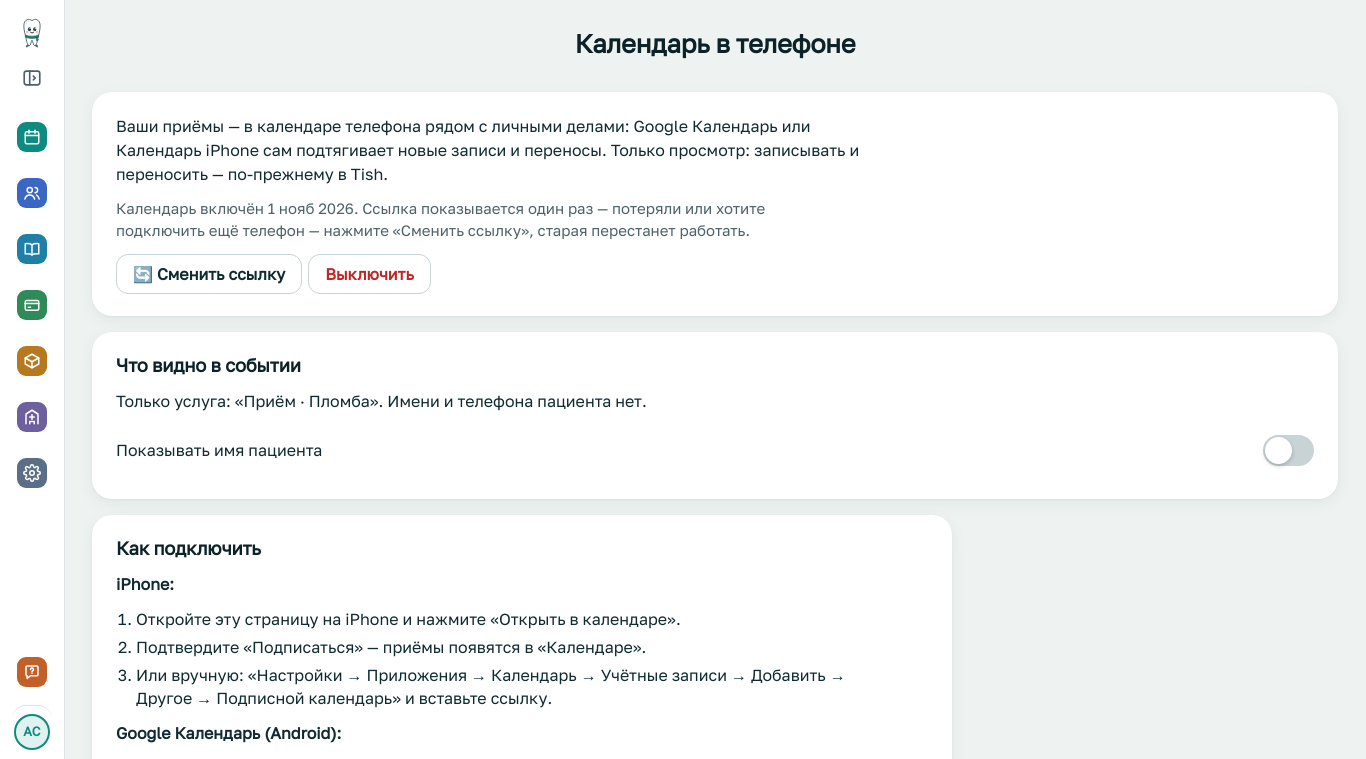
имя пациента — только после предупреждения; «Не надо» ничего не меняет
Click the checkbox labelled "Показывать имя пациента": (1288, 450) [1263,435,1314,466]
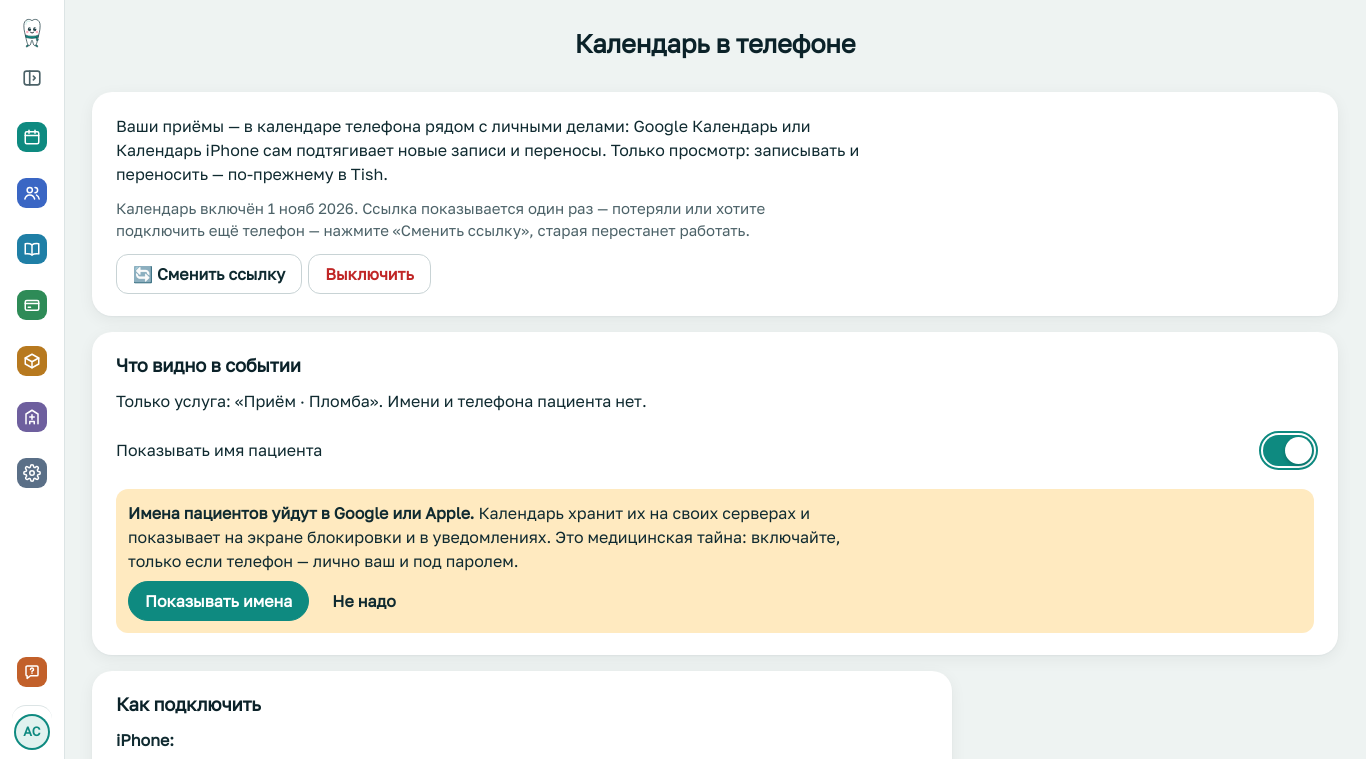
Expected: the dialog named "Показывать имена пациентов?" shows "уйдут в Google или Apple", [128,502,474,522]
Click the button "Не надо": (364, 600) [315,580,413,620]
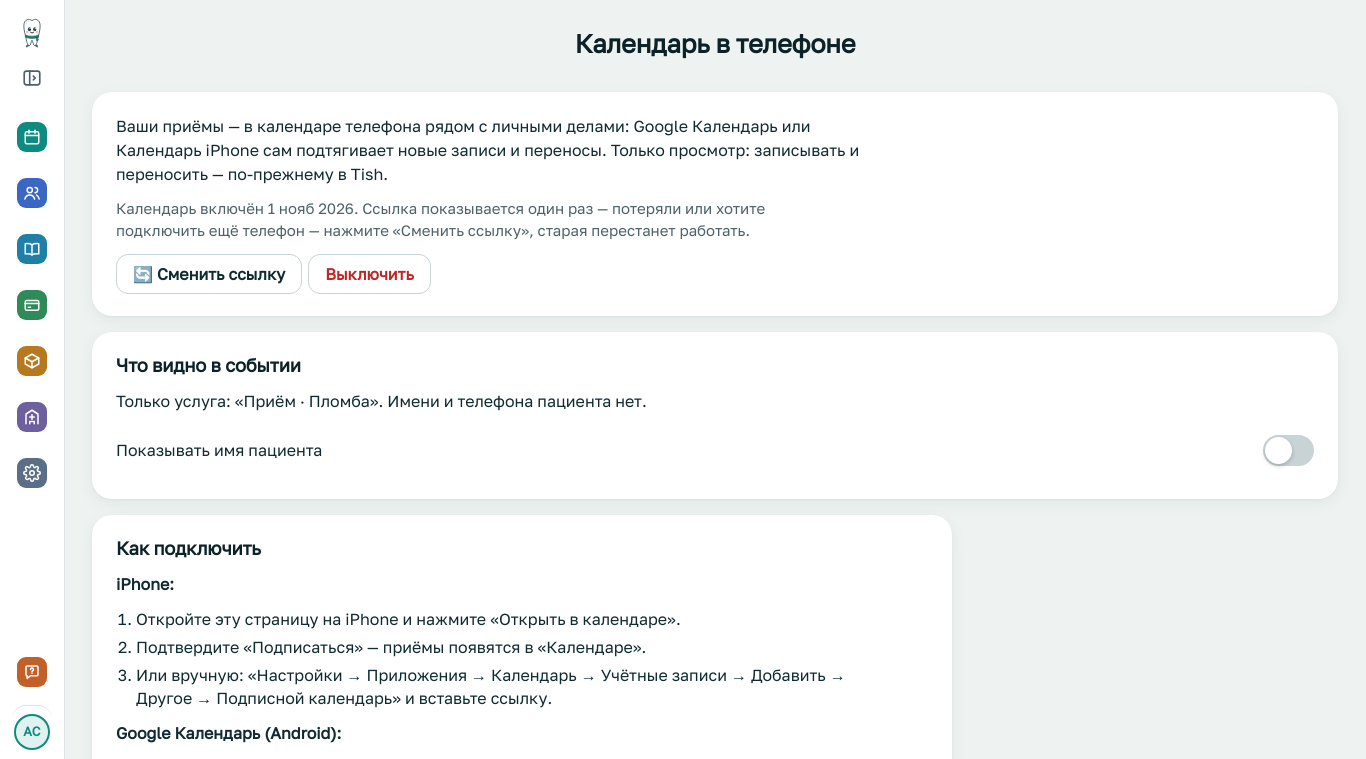
Expected: the checkbox labelled "Показывать имя пациента" is not checked
Click the checkbox labelled "Показывать имя пациента": (1288, 450) [1263,435,1314,466]
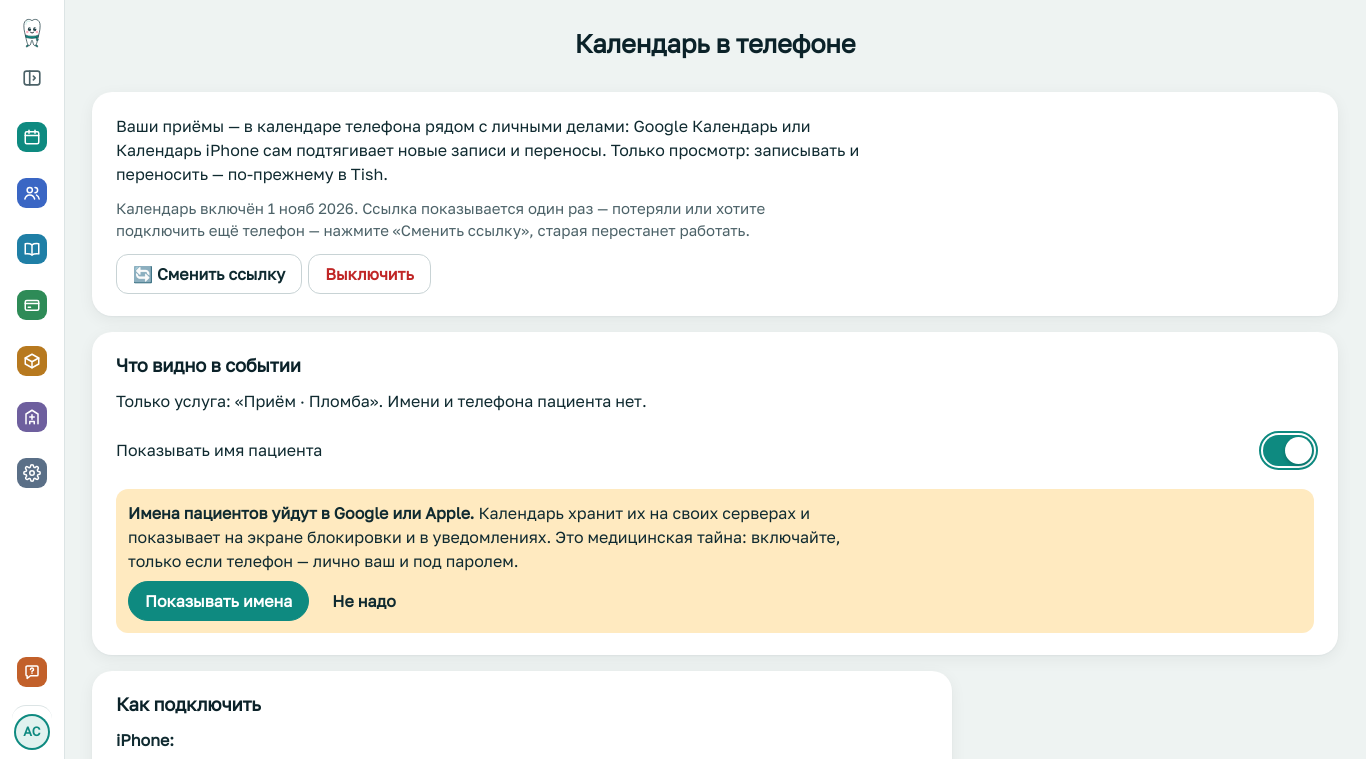
Click the button "Показывать имена": (219, 600) [128,580,309,620]
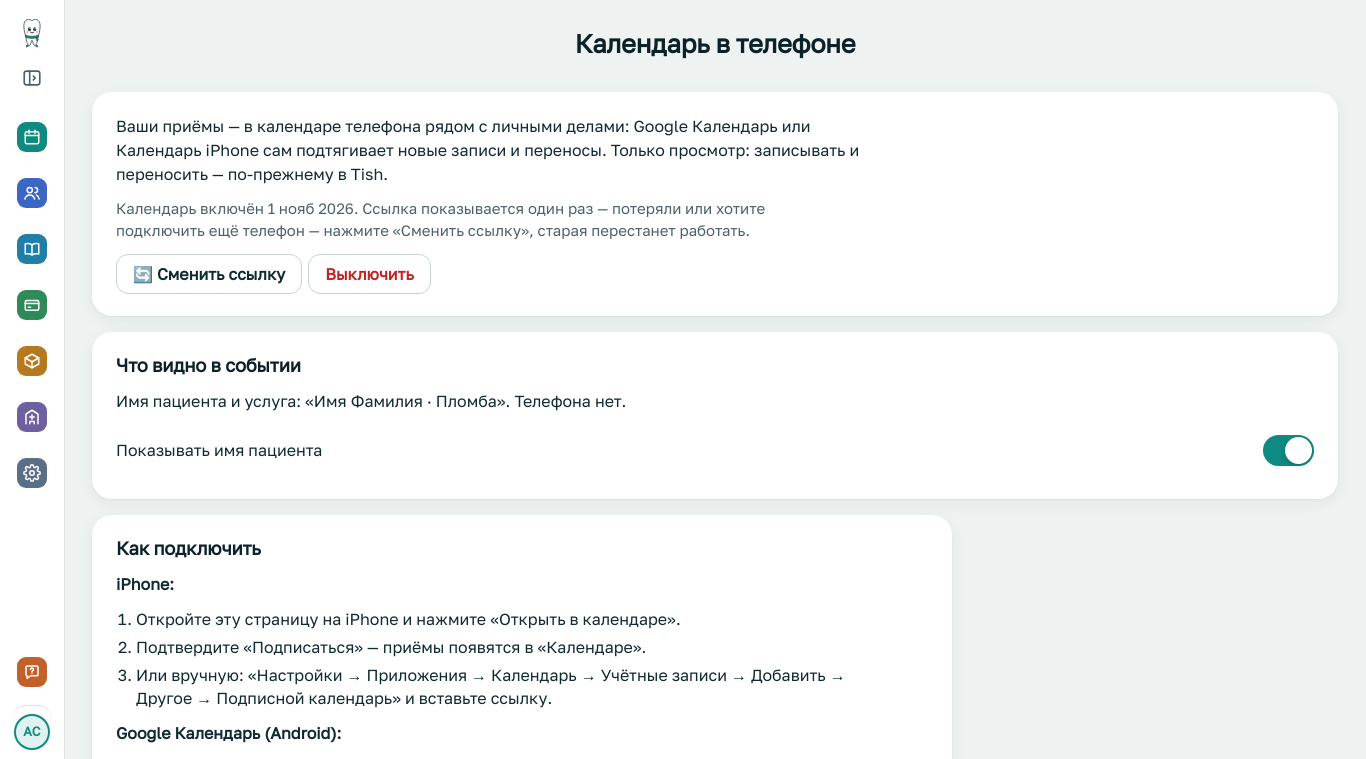
Expected: the checkbox labelled "Показывать имя пациента" is checked
Expected: the text "Имя пациента и услуга: «Имя Фамилия · Пломба». Телефона нет." is shown, [116,390,626,410]
Click the checkbox labelled "Показывать имя пациента": (1288, 450) [1263,435,1314,466]
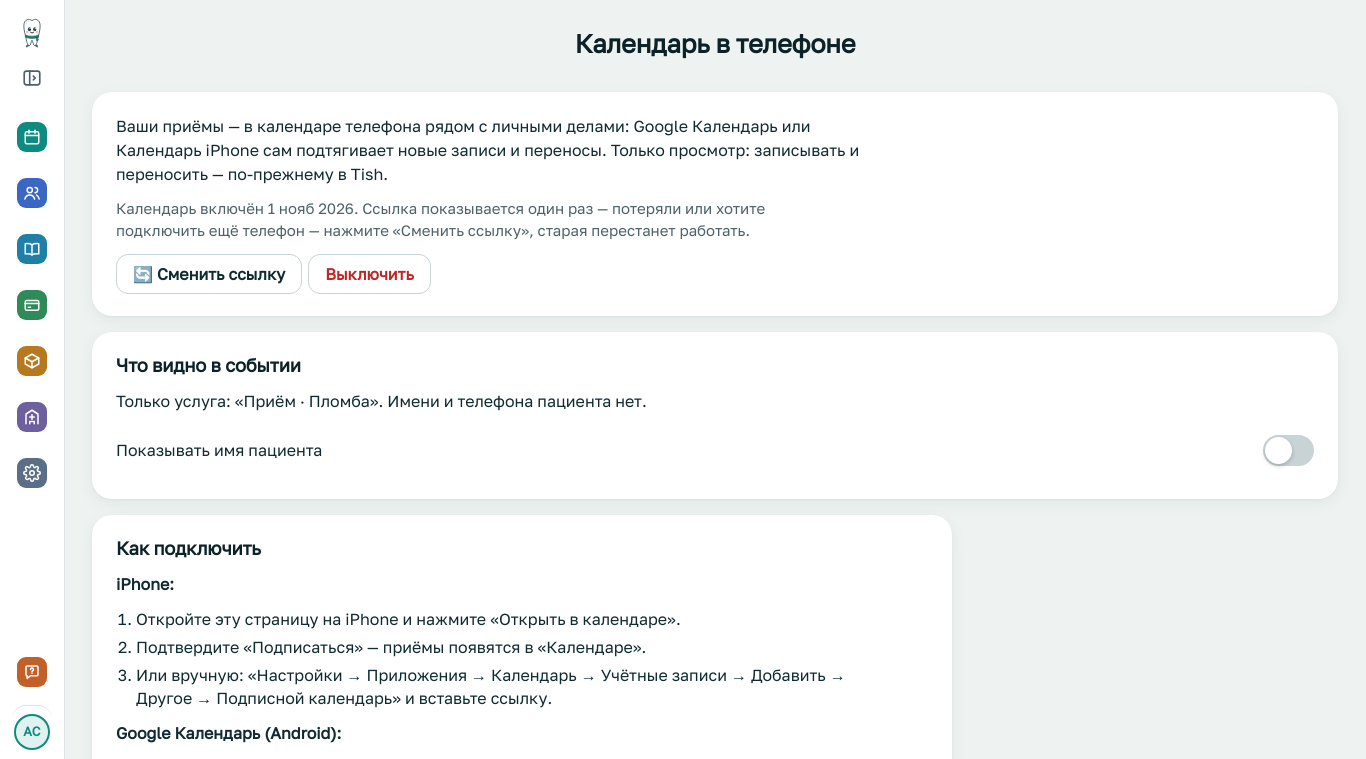
Expected: the text "Только услуга" is shown, [116,390,647,410]
